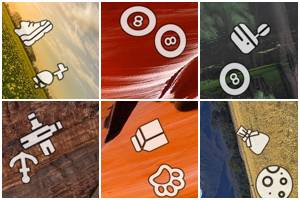thing: (18, 111, 68, 156), (127, 116, 176, 157), (227, 18, 275, 56), (250, 162, 297, 199), (144, 163, 191, 198), (214, 59, 255, 99), (30, 60, 76, 92), (14, 14, 53, 48), (119, 4, 157, 38), (155, 22, 188, 58), (8, 151, 41, 185), (236, 126, 273, 156)
